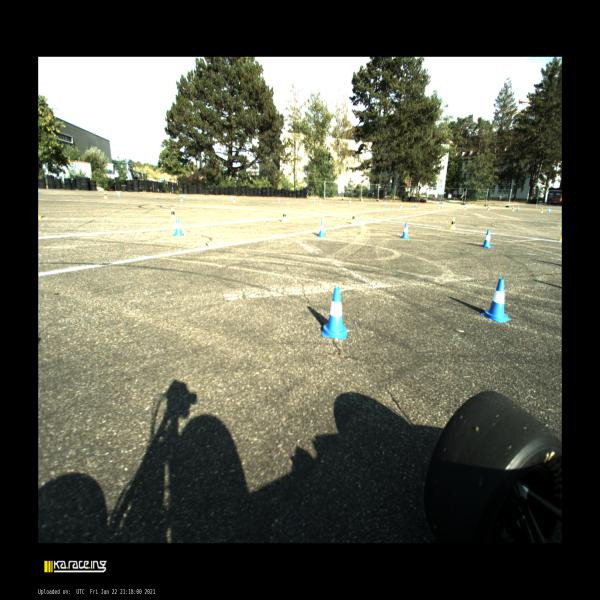blue_cone: (480, 278, 511, 323), (321, 287, 346, 339), (173, 218, 184, 236), (482, 230, 492, 248), (401, 222, 409, 238), (318, 221, 326, 237), (117, 192, 121, 197), (277, 197, 280, 202), (183, 194, 185, 200), (230, 196, 233, 200), (313, 199, 316, 203), (414, 202, 417, 206), (384, 201, 386, 206), (349, 200, 351, 204), (517, 206, 519, 210), (548, 208, 550, 212), (441, 204, 443, 207)
yellow_cone: (450, 218, 456, 230), (171, 207, 176, 220), (282, 210, 287, 222), (351, 214, 356, 225), (104, 191, 108, 199), (540, 208, 543, 213), (464, 205, 467, 210), (319, 200, 322, 205), (180, 196, 183, 201), (487, 206, 490, 210), (512, 206, 514, 212), (233, 198, 236, 202), (438, 204, 440, 209), (361, 201, 363, 206), (400, 203, 402, 208), (287, 199, 289, 204)
